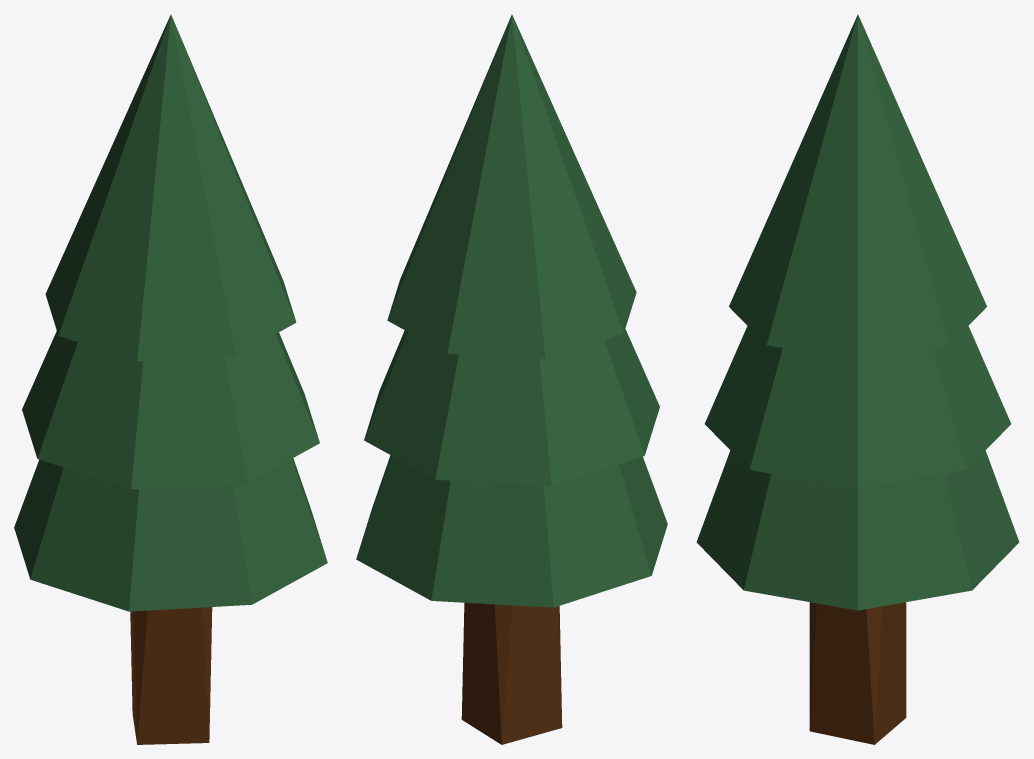
The model's file is needle-tree-1m.glb.
3 renders of one model, left to right at view 1: azimuth 30°, elevation 25°; view 2: azimuth 150°, elevation 25°; view 3: azimuth 270°, elevation 25°, orthographic.
Parts seen in each view (by area): view 1: Cone.003, Cone.001, Cone.002, Cylinder; view 2: Cone.003, Cone.001, Cone.002, Cylinder; view 3: Cone.003, Cone.001, Cone.002, Cylinder.
Part boxes in pixels (x1,y1,x2,y2): Cone.003: (45, 14, 296, 361); Cone.001: (14, 458, 327, 611); Cone.002: (22, 331, 319, 489); Cylinder: (130, 607, 212, 744); Cone.003: (387, 14, 636, 358); Cone.001: (356, 455, 667, 607); Cone.002: (364, 329, 659, 486); Cylinder: (461, 602, 562, 744); Cone.003: (729, 14, 986, 361); Cone.001: (696, 450, 1019, 610); Cone.002: (704, 326, 1011, 488); Cylinder: (809, 602, 906, 744).
Size of the model in its own units: 0.5 by 1.21 by 0.5.
